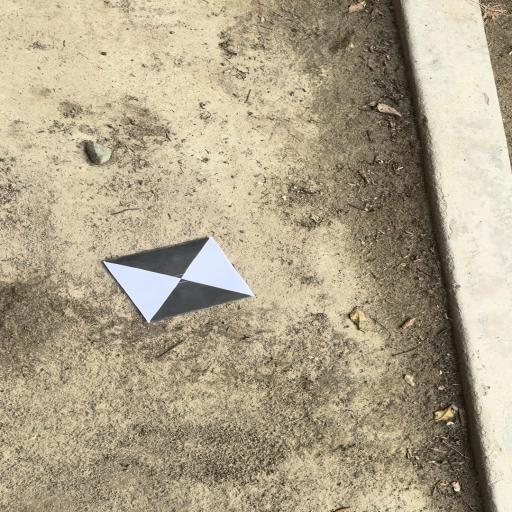target: (103, 237, 255, 322)
